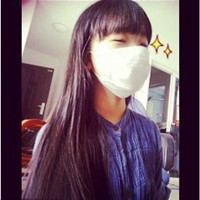face_mask: (93, 21, 150, 90)
